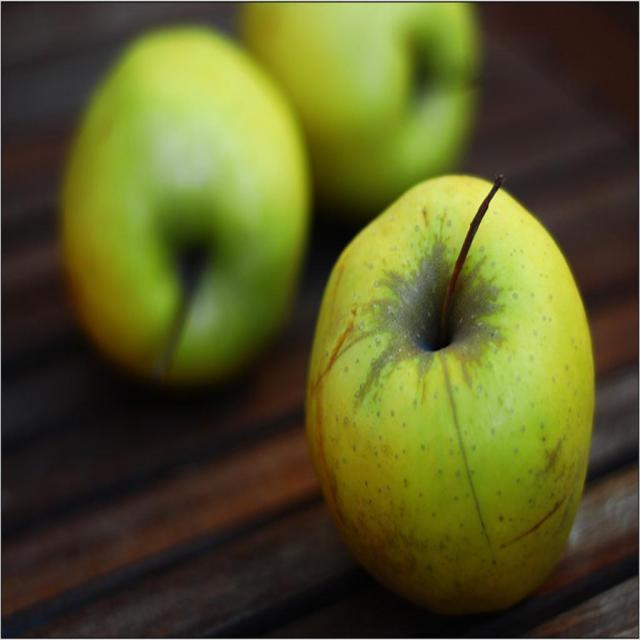Rotten: (325, 190, 607, 617)
